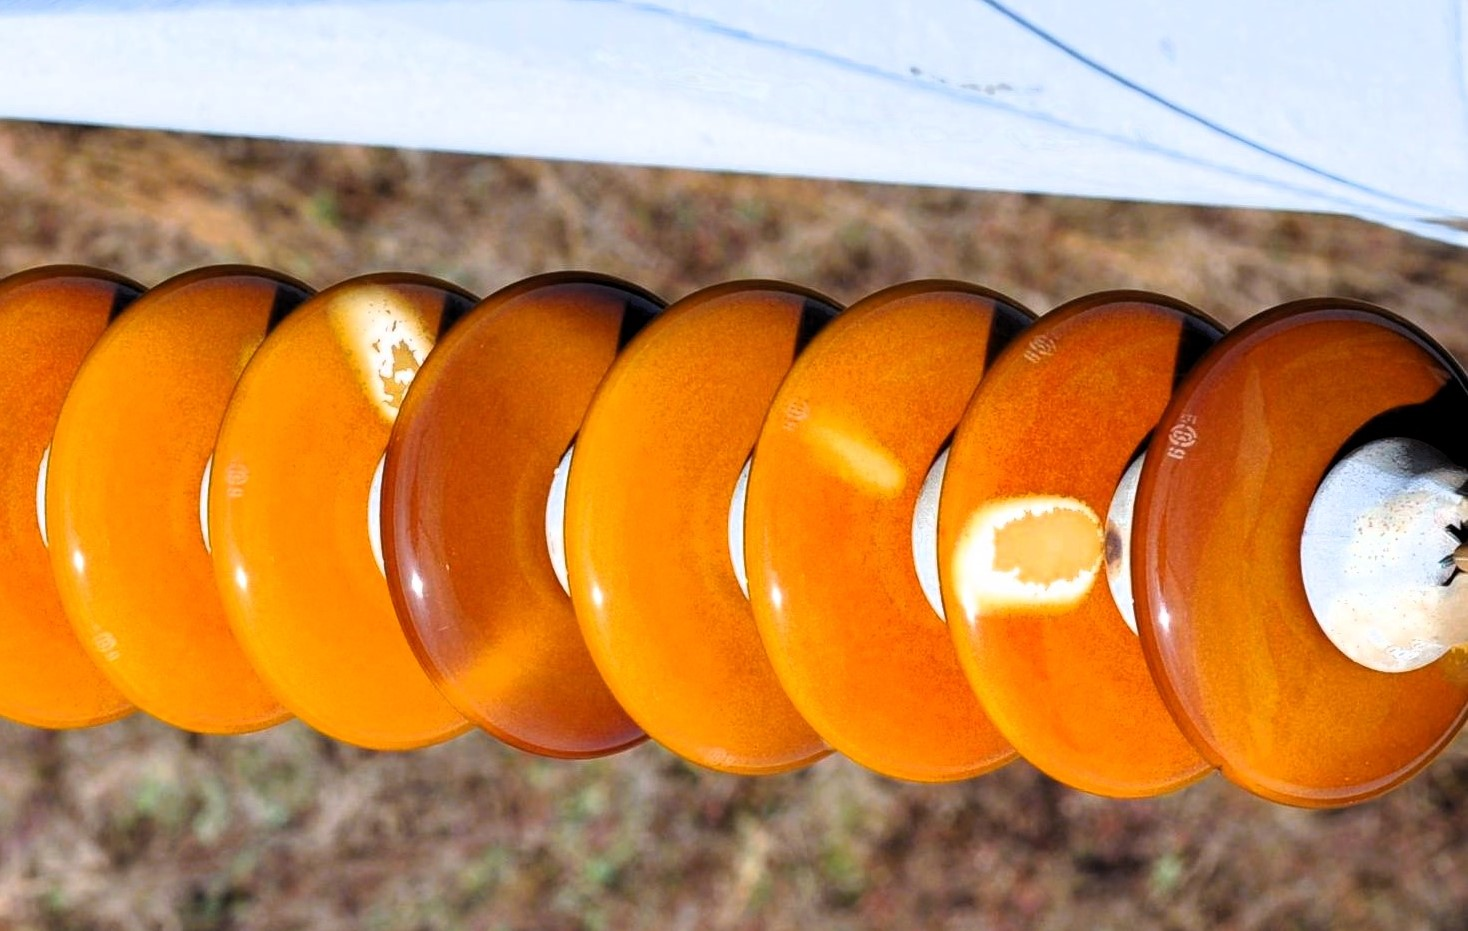Insulator flashover: (923, 276, 1238, 802), (199, 268, 475, 754)
